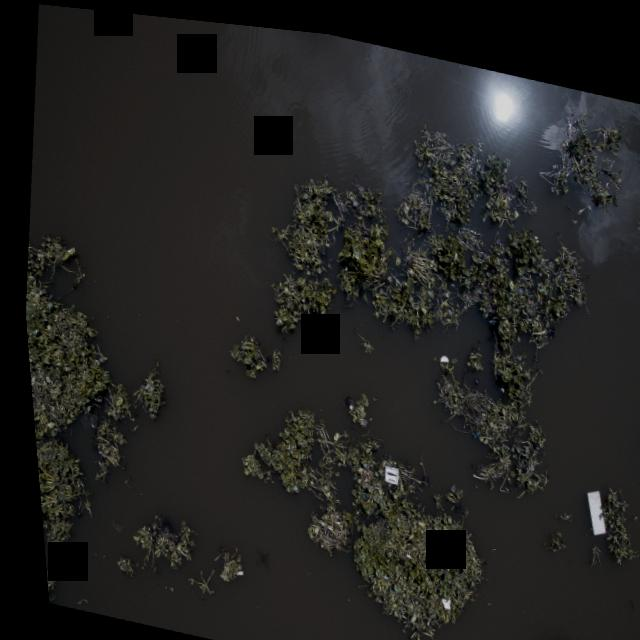plastic: (572, 459, 605, 530), (369, 451, 396, 480), (425, 581, 446, 605), (69, 408, 90, 431), (97, 515, 117, 534), (429, 342, 446, 362), (461, 415, 475, 432), (221, 561, 235, 575), (87, 447, 100, 456), (339, 394, 348, 403)
